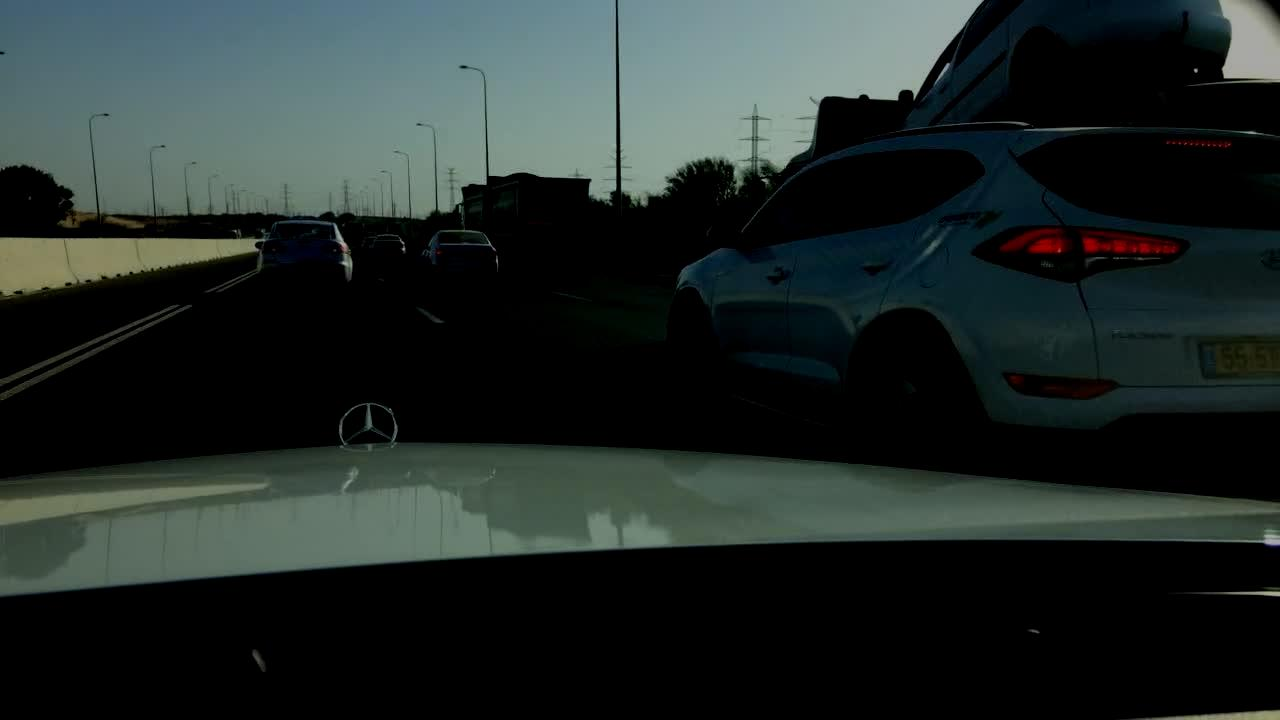Mercedes: (330, 398, 407, 452)
